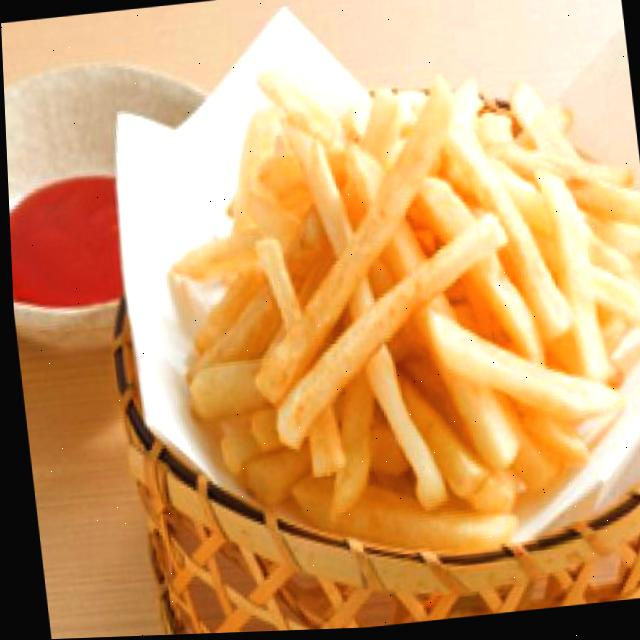炸货点心: (99, 21, 640, 637)
